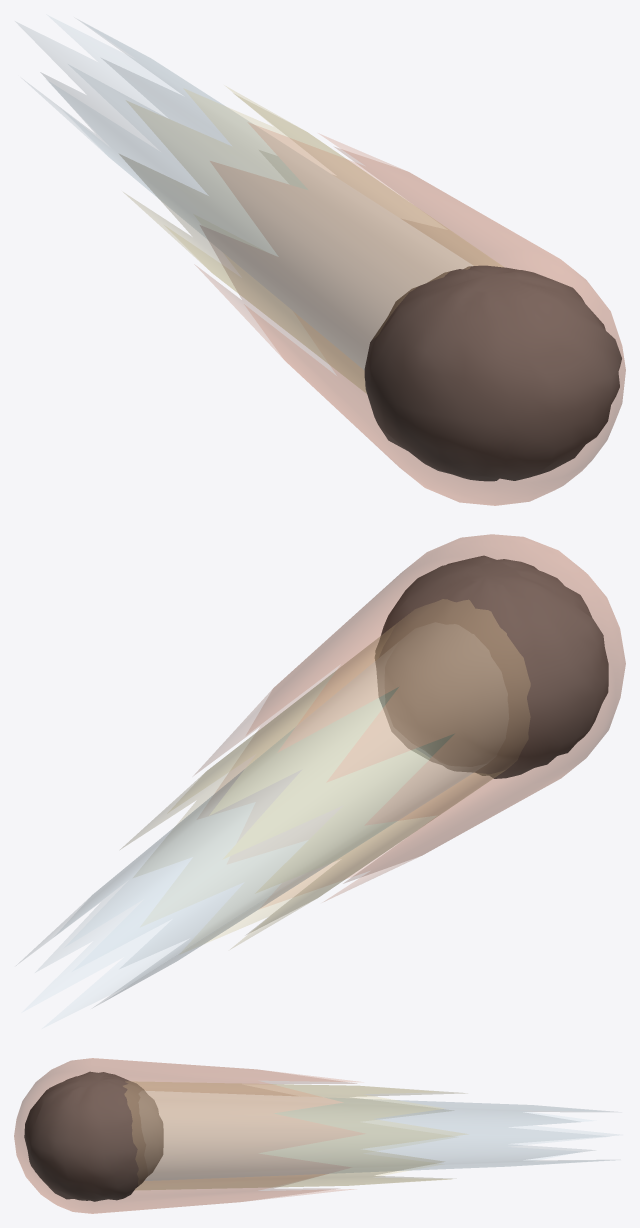
File: comet.fbx
3 renders of one model, top to bottom at view 1: azimuth 30°, elevation 25°; view 2: azimuth 150°, elevation 25°; view 3: azimuth 270°, elevation 25°, orthographic. The views are drawn at different scales.
Visible parts, largest first — view 1: Comet; view 2: Comet; view 3: Comet.
Boxes of the visible parts, x1=… form: Comet: x1=15, y1=15, x2=625, y2=505; Comet: x1=19, y1=534, x2=625, y2=1028; Comet: x1=14, y1=1058, x2=619, y2=1213.
Bounding box in the file's own units: 3.8 × 14.81 × 3.8.
